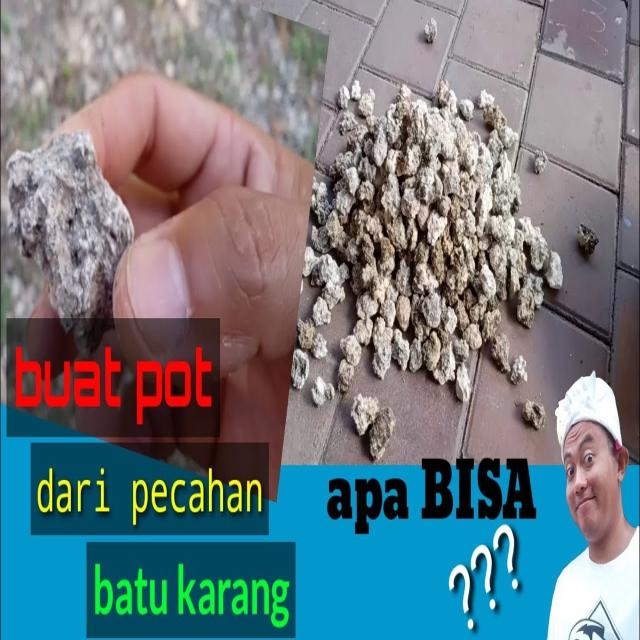Pecahan Agregat: (294, 18, 596, 482)
